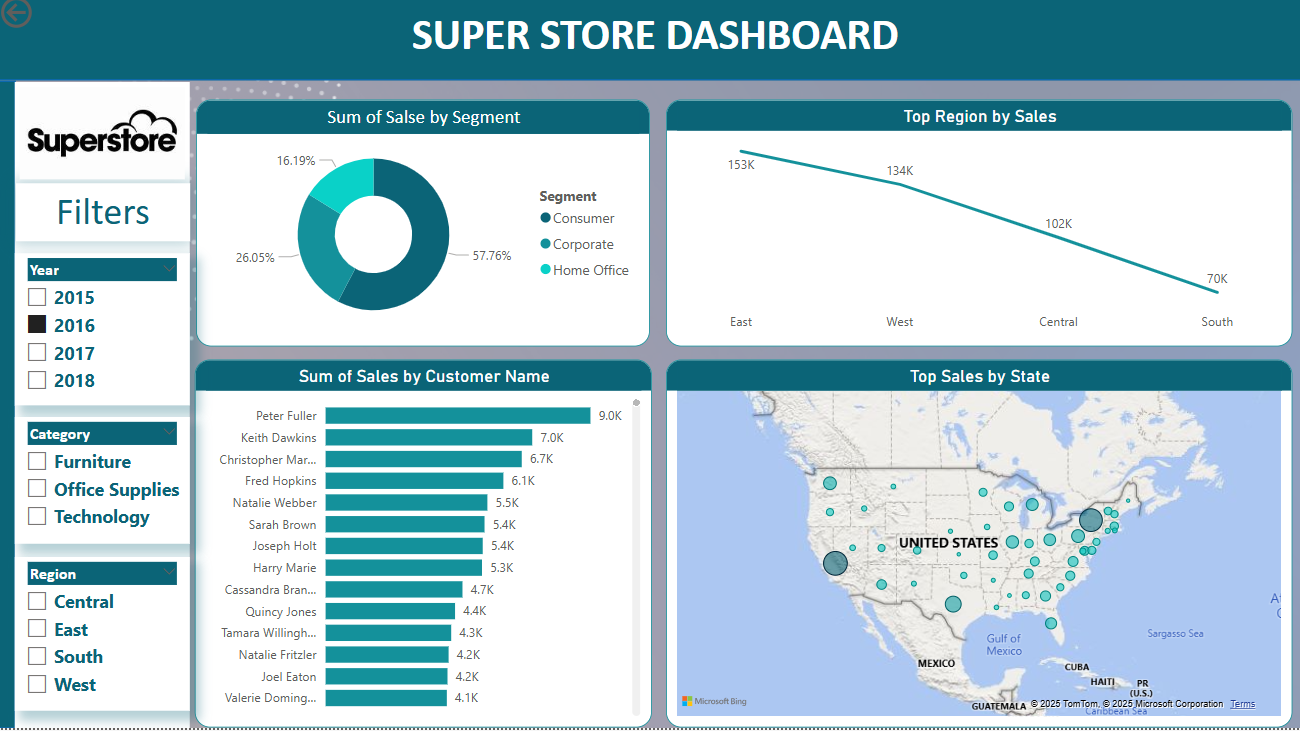

What the dashboard file says about the page in this screenshot:
{"tool":"powerbi","page":{"name":"Duplicate of sales","canvas":[1280,720],"ordinal":1},"visuals":[{"type":"shape","box":[0,0,1280.3,86.4],"z":0},{"type":"shape","box":[0,86.4,19.2,634],"z":1000},{"type":"shape","box":[18.8,87.5,171.2,632.5],"z":2000},{"type":"textbox","box":[10,10,1270,67.1],"z":3000},{"type":"textbox","box":[20,187.1,170,57.1],"z":5000},{"type":"lineChart","fields":{"Category":["Superstore_Cleaned.Order Date.Variation.Date Hierarchy.Year","Superstore_Cleaned.Order Date.Variation.Date Hierarchy.Quarter","Superstore_Cleaned.Order Date.Variation.Date Hierarchy.Month","Superstore_Cleaned.Order Date.Variation.Date Hierarchy.Day"],"Y":["Superstore_Cleaned.Sales"]},"box":[691.4,414.3,447.1,241.4],"z":6000},{"type":"clusteredBarChart","fields":{"Category":["Superstore_Cleaned.Customer Name"],"Y":["Superstore_Cleaned.Sales"]},"box":[195,360,447.5,360],"z":7000},{"type":"lineChart","fields":{"Category":["Superstore_Cleaned.Region"],"Y":["Superstore_Cleaned.Sales"]},"box":[655.7,105.7,612.9,241.4],"z":8000},{"type":"actionButton","box":[0,0,100,40],"z":9000},{"type":"map","fields":{"Category":["Superstore_Cleaned.State"],"Size":["Superstore_Cleaned.Sales"]},"box":[655.7,360,612.9,360],"z":10000},{"type":"donutChart","title":"Sum of Salse by Segment","fields":{"Y":["Superstore_Cleaned.Sales"],"Category":["Superstore_Cleaned.Segment"]},"box":[195.7,105.7,444.3,241.4],"z":11000},{"type":"image","box":[18.8,87.5,171.2,100],"z":12000},{"type":"slicer","fields":{"Values":["Superstore_Cleaned.Order Date.Variation.Date Hierarchy.Year"]},"box":[18.6,255.7,171.4,148.6],"z":13000},{"type":"slicer","fields":{"Values":["Superstore_Cleaned.Category"]},"box":[18.6,415.7,171.4,124.3],"z":14000},{"type":"slicer","fields":{"Values":["Superstore_Cleaned.Region"]},"box":[18.6,552.9,171.4,150],"z":15001}]}

Visuals, with their boxes in screenshot pixels (x1, y1, x2, y2), scaled from the page's 1280x720 canvas onto the 1300x731 screenshot:
shape: region(0, 0, 1299, 88)
shape: region(0, 88, 20, 730)
shape: region(19, 89, 193, 730)
textbox: region(10, 10, 1299, 78)
textbox: region(20, 190, 193, 248)
lineChart - Superstore_Cleaned.Order Date.Variation.Date Hierarchy.Year x Superstore_Cleaned.Order Date.Variation.Date Hierarchy.Quarter: region(702, 421, 1156, 666)
clusteredBarChart - Superstore_Cleaned.Customer Name x Superstore_Cleaned.Sales: region(198, 366, 653, 730)
lineChart - Superstore_Cleaned.Region x Superstore_Cleaned.Sales: region(666, 107, 1288, 352)
actionButton: region(0, 0, 102, 41)
map - Superstore_Cleaned.State x Superstore_Cleaned.Sales: region(666, 366, 1288, 730)
"Sum of Salse by Segment" donutChart: region(199, 107, 650, 352)
image: region(19, 89, 193, 190)
slicer - Superstore_Cleaned.Order Date.Variation.Date Hierarchy.Year: region(19, 260, 193, 410)
slicer - Superstore_Cleaned.Category: region(19, 422, 193, 548)
slicer - Superstore_Cleaned.Region: region(19, 561, 193, 714)
